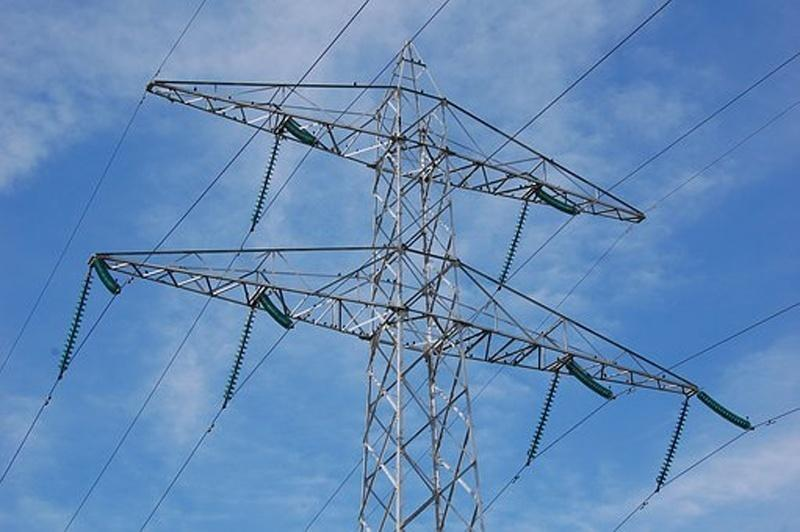power_tower: (55, 37, 756, 532)
